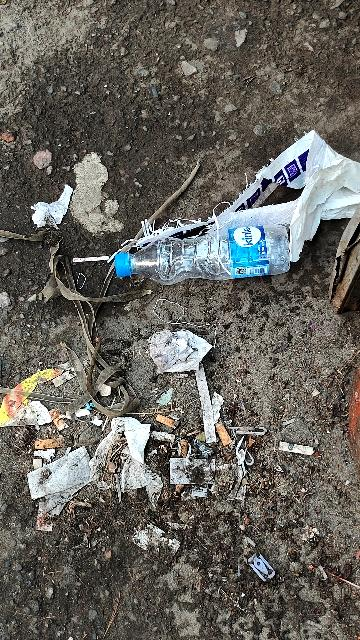bottle: (99, 230, 310, 284)
